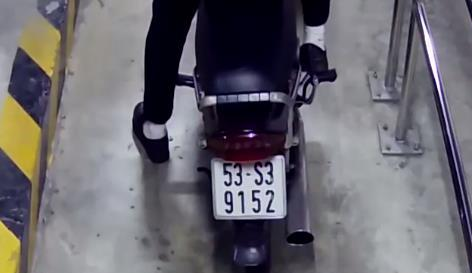lisence: (210, 154, 288, 220)
